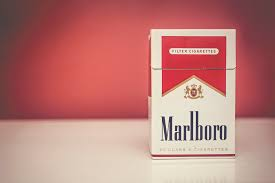marlboro: (152, 29, 235, 157)
